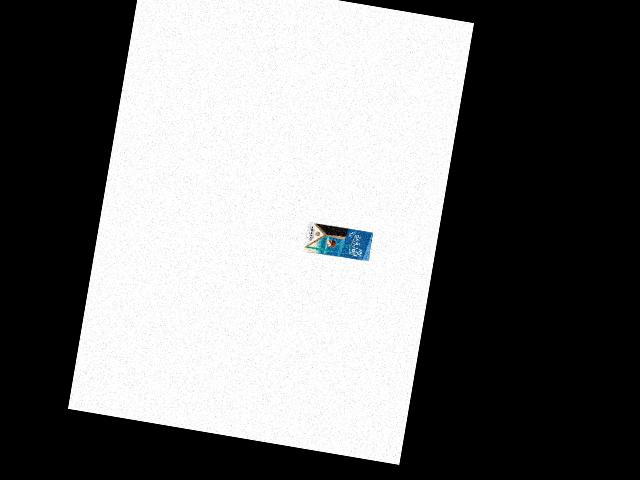chocolate: (301, 219, 374, 263)
